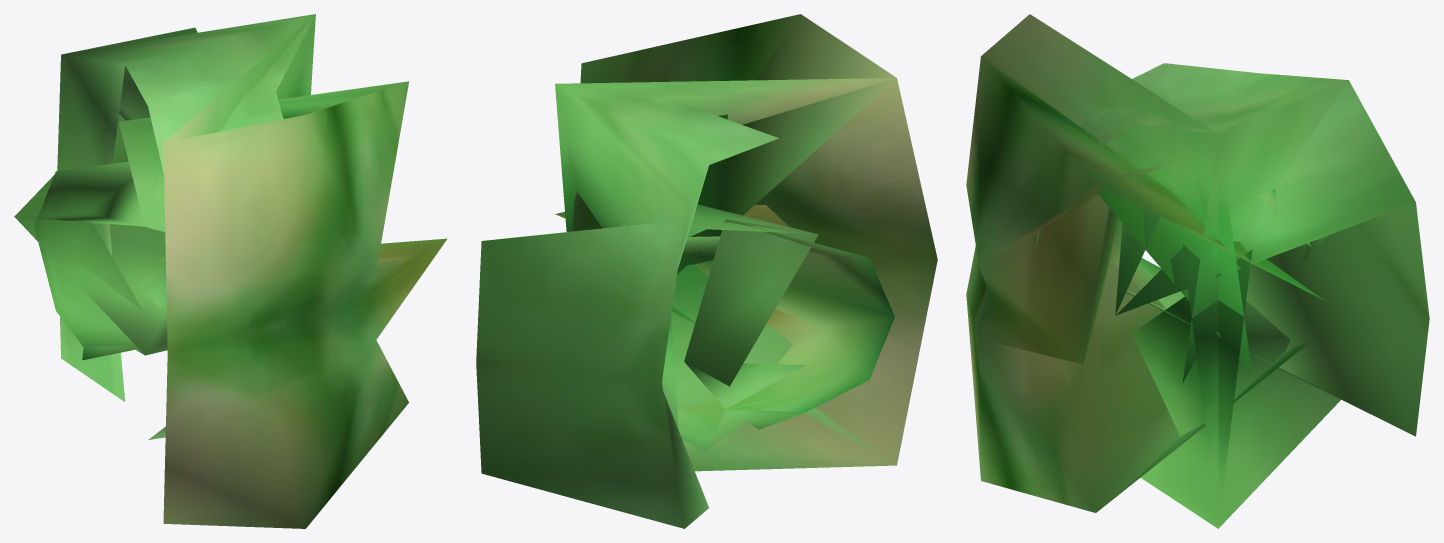
Rendered from A_M_BODY.glb.
3 views of the same model, side by side, from view 1: azimuth 30°, elevation 25°; view 2: azimuth 150°, elevation 25°; view 3: azimuth 270°, elevation 25° (orthographic). The views are drawn at different scales.
Parts seen in each view (by area): view 1: A_M_body; view 2: A_M_body; view 3: A_M_body.
Part boxes in pixels (bbox=[...]): A_M_body: bbox=[14, 14, 447, 528]; A_M_body: bbox=[476, 14, 937, 528]; A_M_body: bbox=[966, 14, 1429, 528].
Bounding box in the file's own units: 1.97 × 2.2 × 2.17.
1 material, 1 textured.
